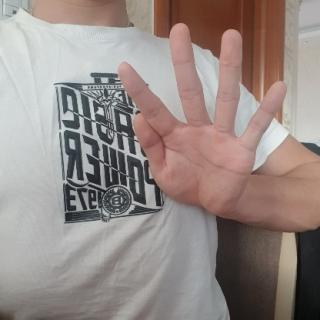SHEEN: (112, 19, 290, 225)
